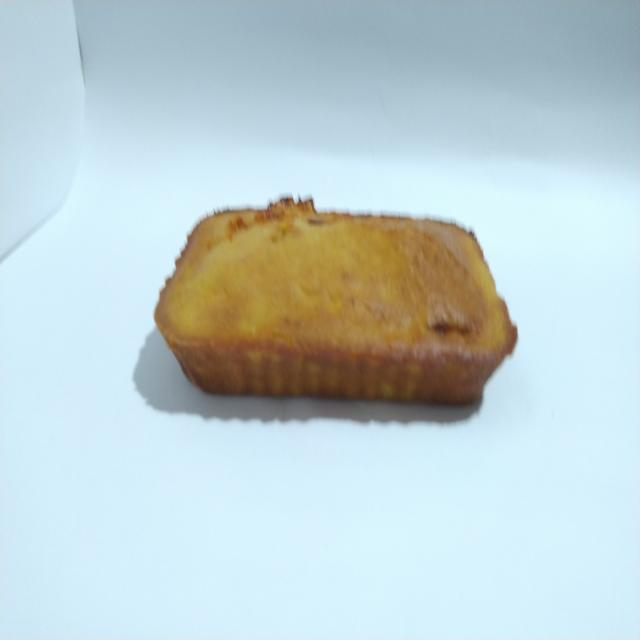Sopa: (144, 179, 525, 425)
